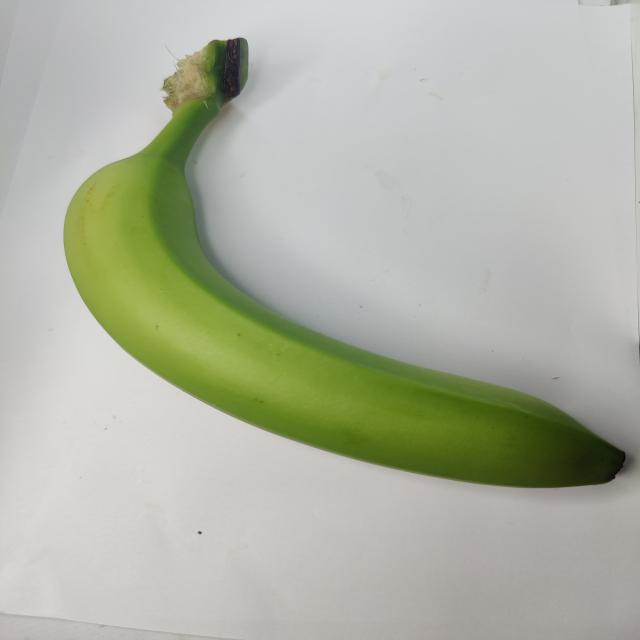Raw: (39, 29, 639, 519)
